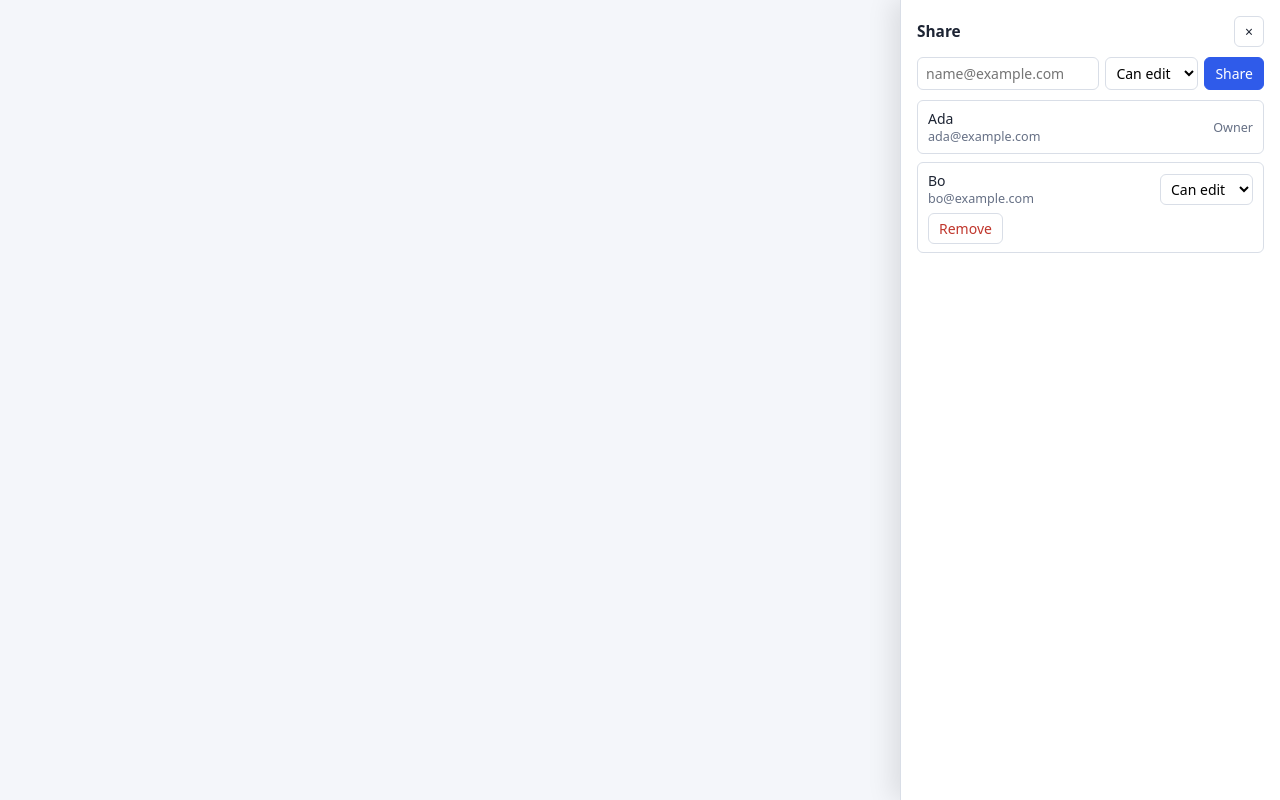
Test case: SharePanel › replaces a server error with in-app validation for an invalid email
The image size is (1280, 800).
Step 1. Type "zed@example.com" into the field with placeholder "name@example.com" → (1008, 74), box [917, 57, 1099, 90]
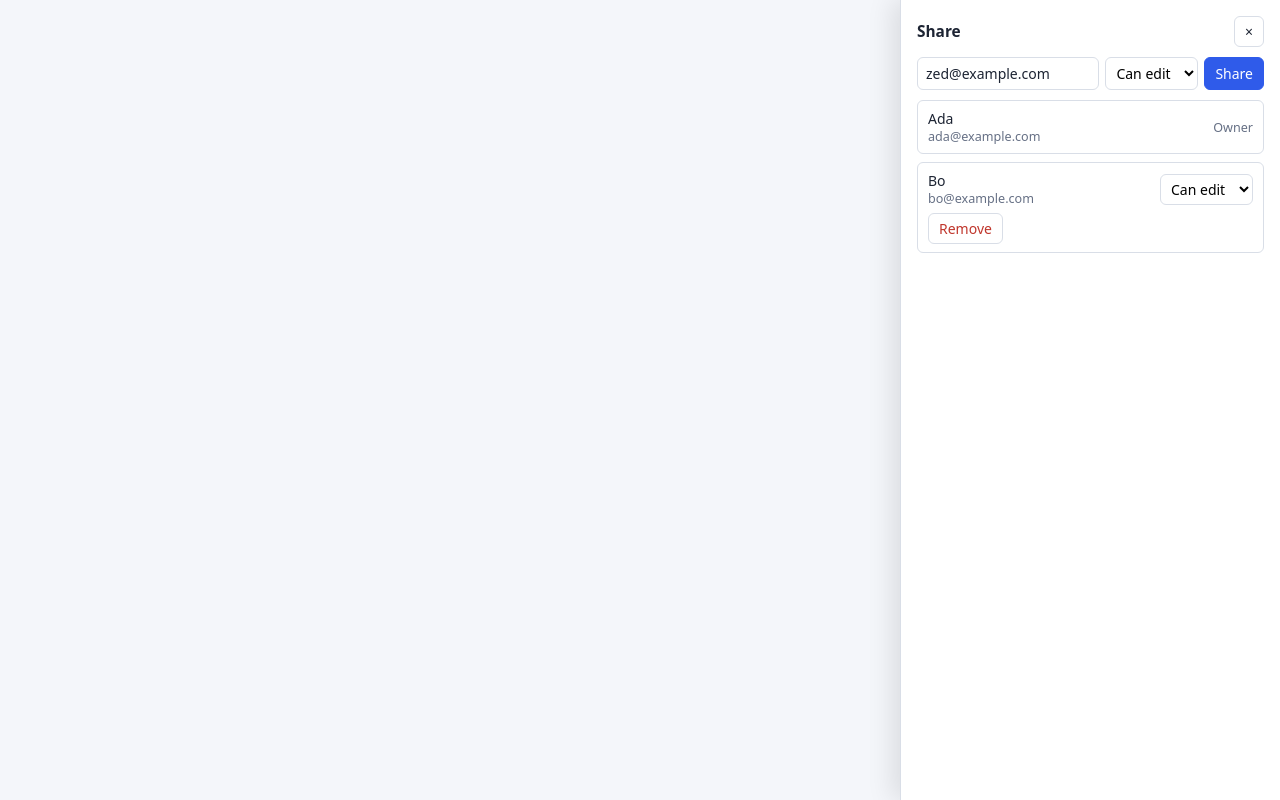
Step 2. Submit the form, box [917, 57, 1264, 90]
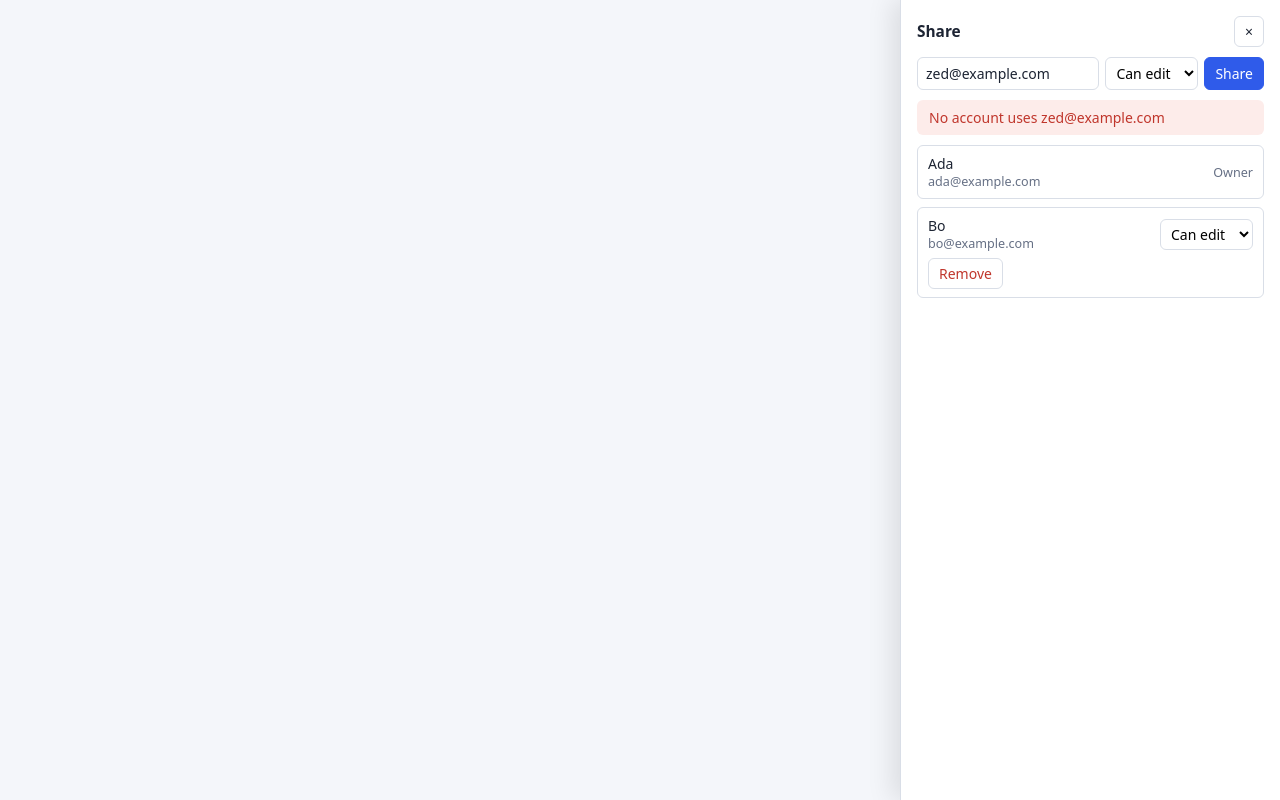
Result: the message "No account uses zed@example.com" is shown at [917, 100, 1264, 135]
Step 3. Replace the text in the field named "Email of the person to share with" with "not an email" → (1008, 74), box [917, 57, 1099, 90]
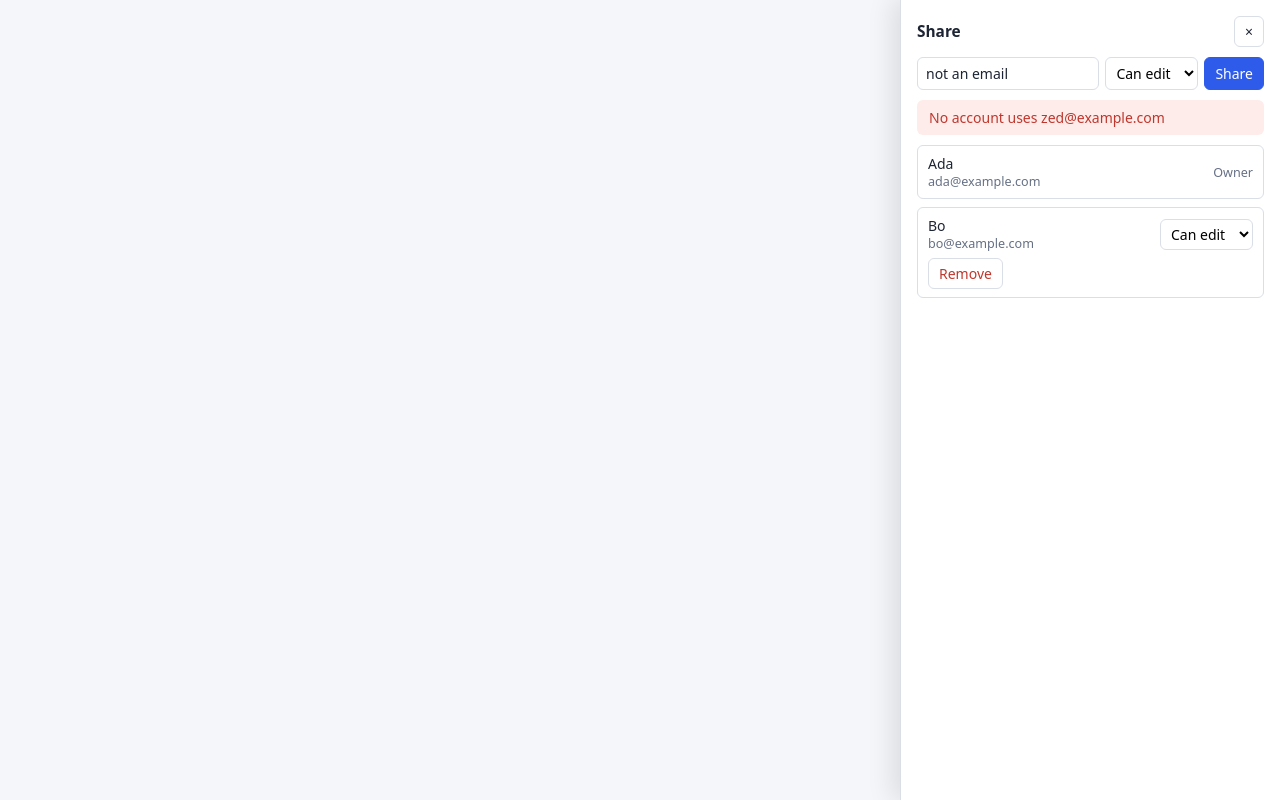
Step 4. Submit the form, box [917, 57, 1264, 90]
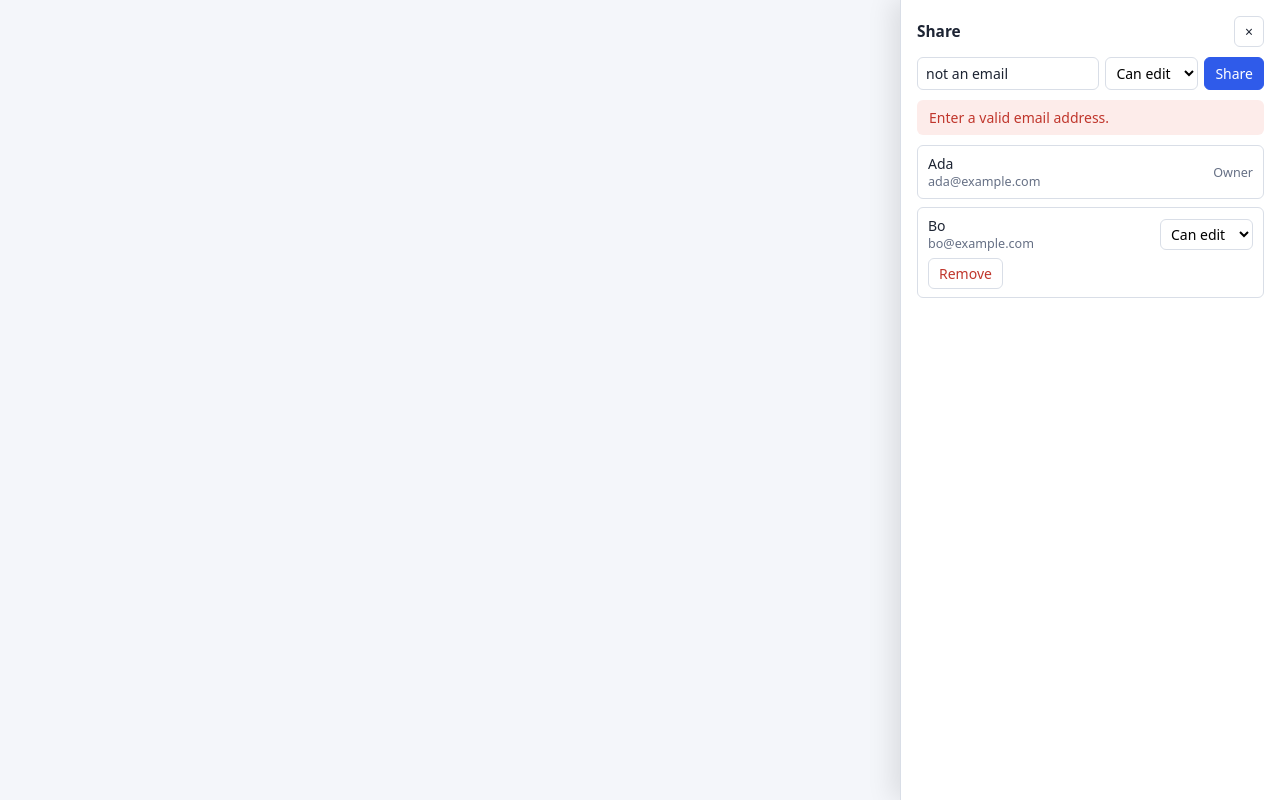
Result: the message "Enter a valid email address." is shown at [917, 100, 1264, 135]
Result: the message "No account uses zed@example.com" no longer shows "No account uses zed@example.com"
